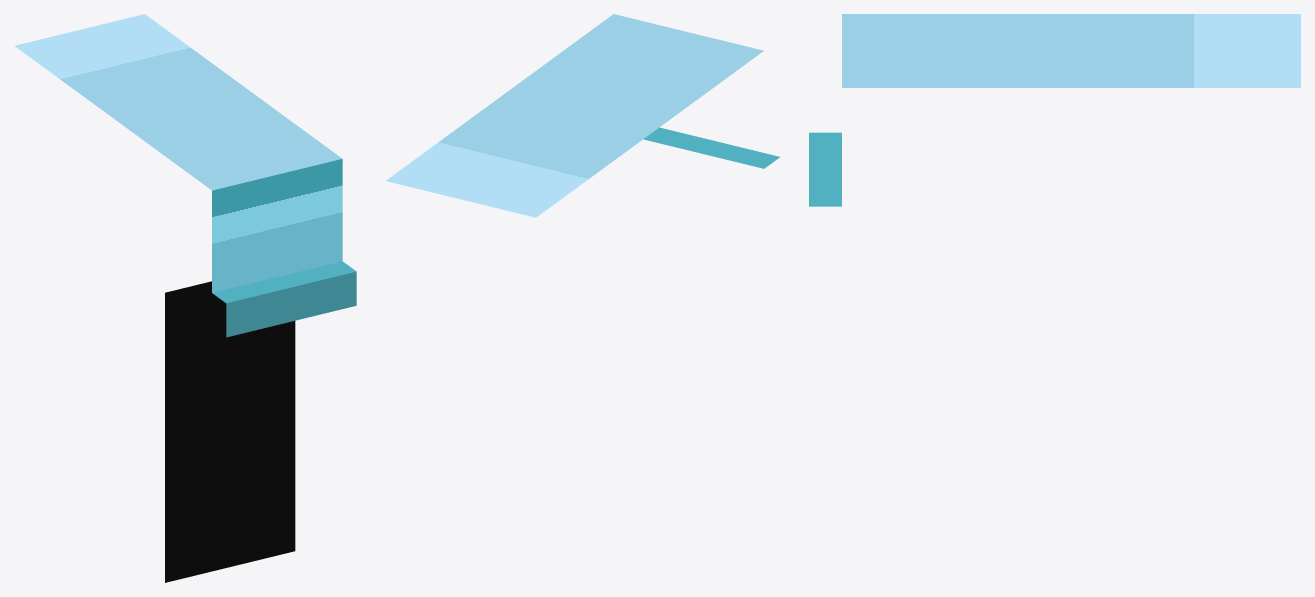
File: hgss-centre-b1-mur-nord-porte-1.glb
3 views of the same model, side by side, from view 1: azimuth 30°, elevation 25°; view 2: azimuth 150°, elevation 25°; view 3: azimuth 270°, elevation 25° (orthographic). The views are drawn at different scales.
Size of the model in its own units: 1 by 3.12 by 2.81.
2 materials, 2 textured.
